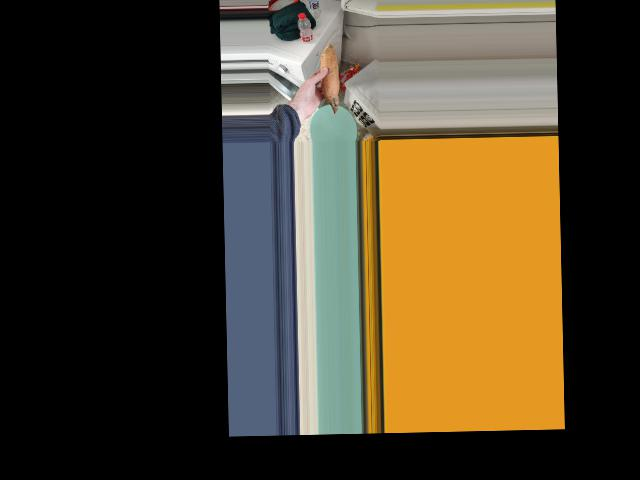sweet_potato: (314, 52, 339, 113)
